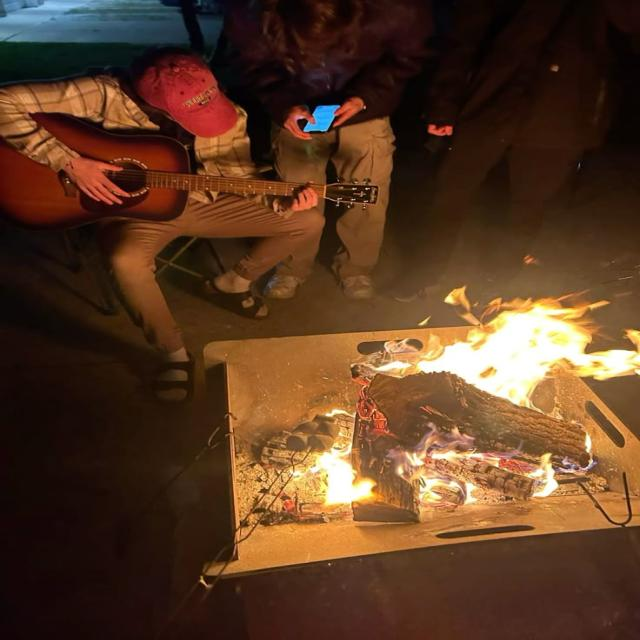fire: (414, 286, 640, 407), (412, 442, 556, 509), (316, 448, 377, 506)
